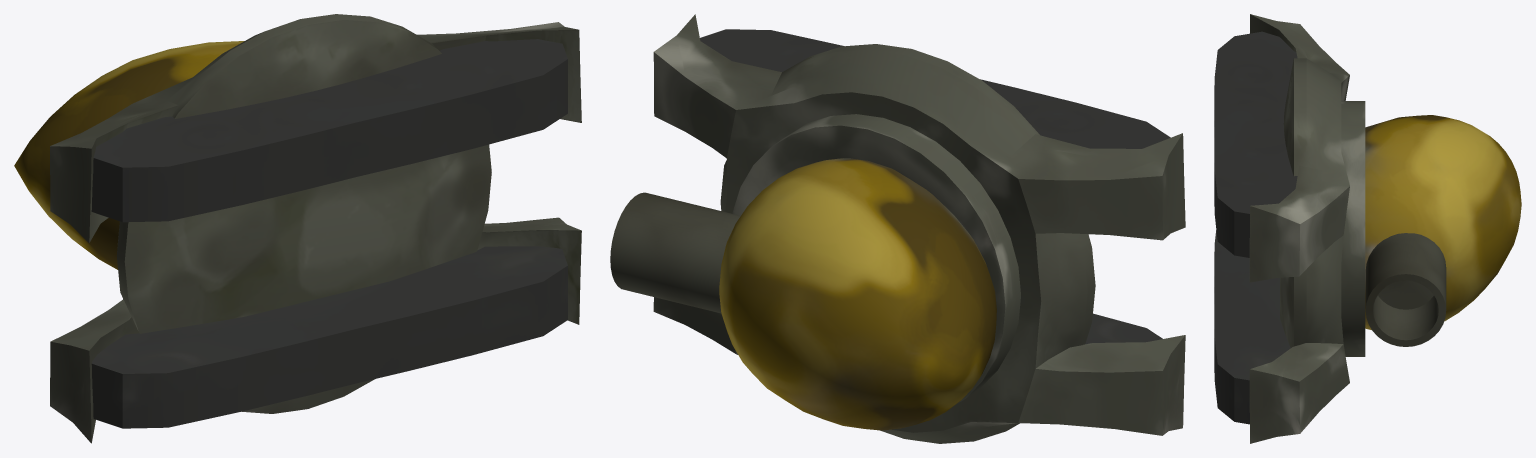
Rendered from tankLancer.fbx.
3 renders of one model, left to right at view 1: azimuth 30°, elevation 25°; view 2: azimuth 150°, elevation 25°; view 3: azimuth 270°, elevation 25°, orthographic. The views are drawn at different scales.
Visible parts, largest first — view 1: Cylinder.004, Sphere.003; view 2: Cylinder.004, Sphere.003, Cylinder.005; view 3: Cylinder.004, Sphere.003, Cylinder.005.
Boxes of the visible parts, x1,y1,x2,y2 form: Cylinder.004: (50, 14, 581, 443); Sphere.003: (14, 41, 244, 269); Cylinder.004: (653, 14, 1185, 443); Sphere.003: (719, 158, 996, 430); Cylinder.005: (610, 192, 740, 313); Cylinder.004: (1214, 14, 1365, 443); Sphere.003: (1365, 115, 1521, 329); Cylinder.005: (1365, 233, 1446, 346).
Bounding box in the file's own units: 1103 × 796 × 716.
1 material, 1 textured.
